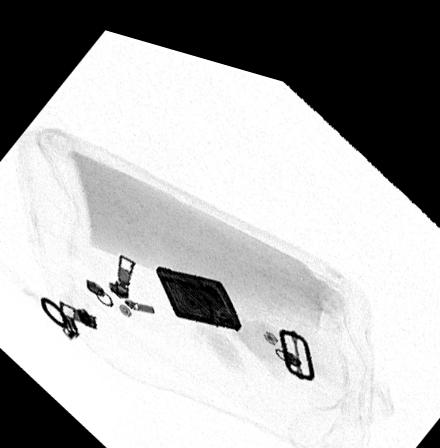Lighter: (153, 255, 241, 316)
